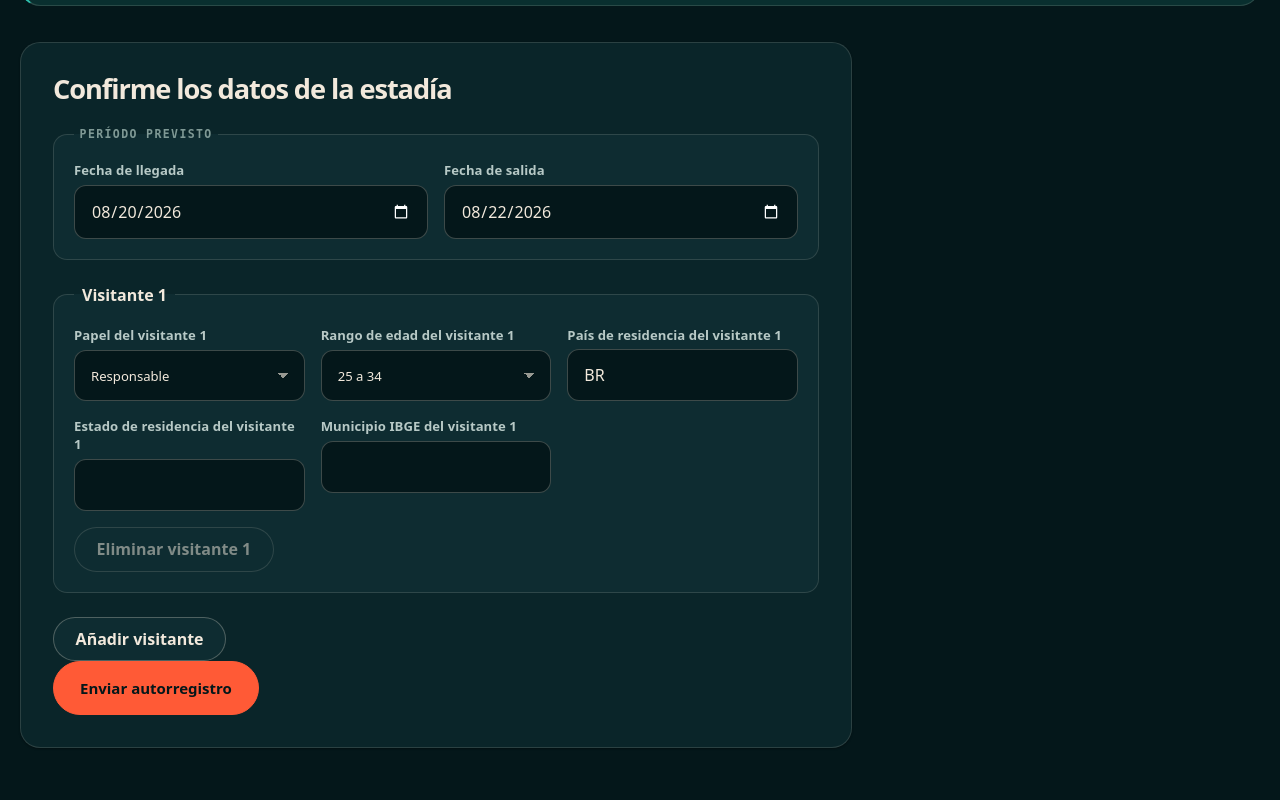
Test case: i18n do formulário aberto (es) › mostra a confirmação de envio no idioma selecionado
(page scrolled)
Type "BA" into the field labelled "Estado de residencia del visitante 1" at (189, 485), box [74,459,305,511]
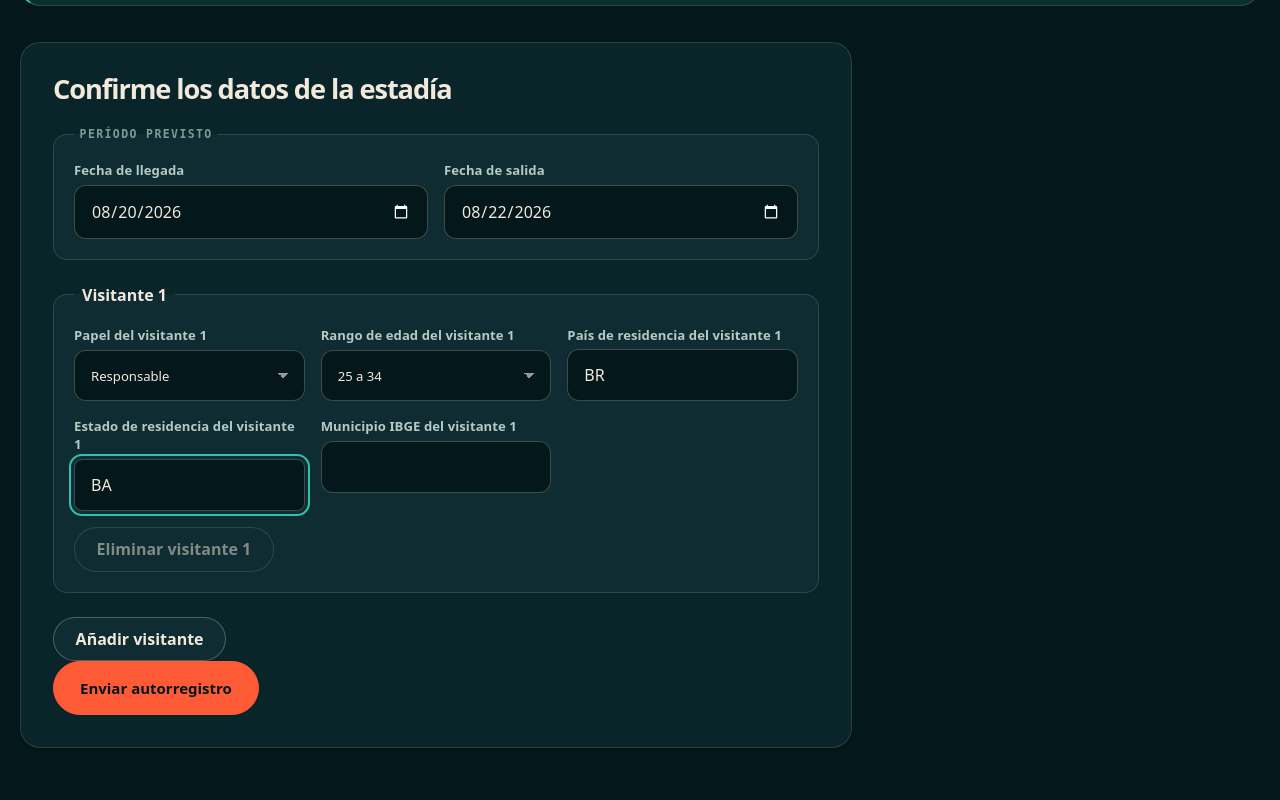
Type "2925509" into the field labelled "Municipio IBGE del visitante 1" at (436, 467), box [321,441,551,493]
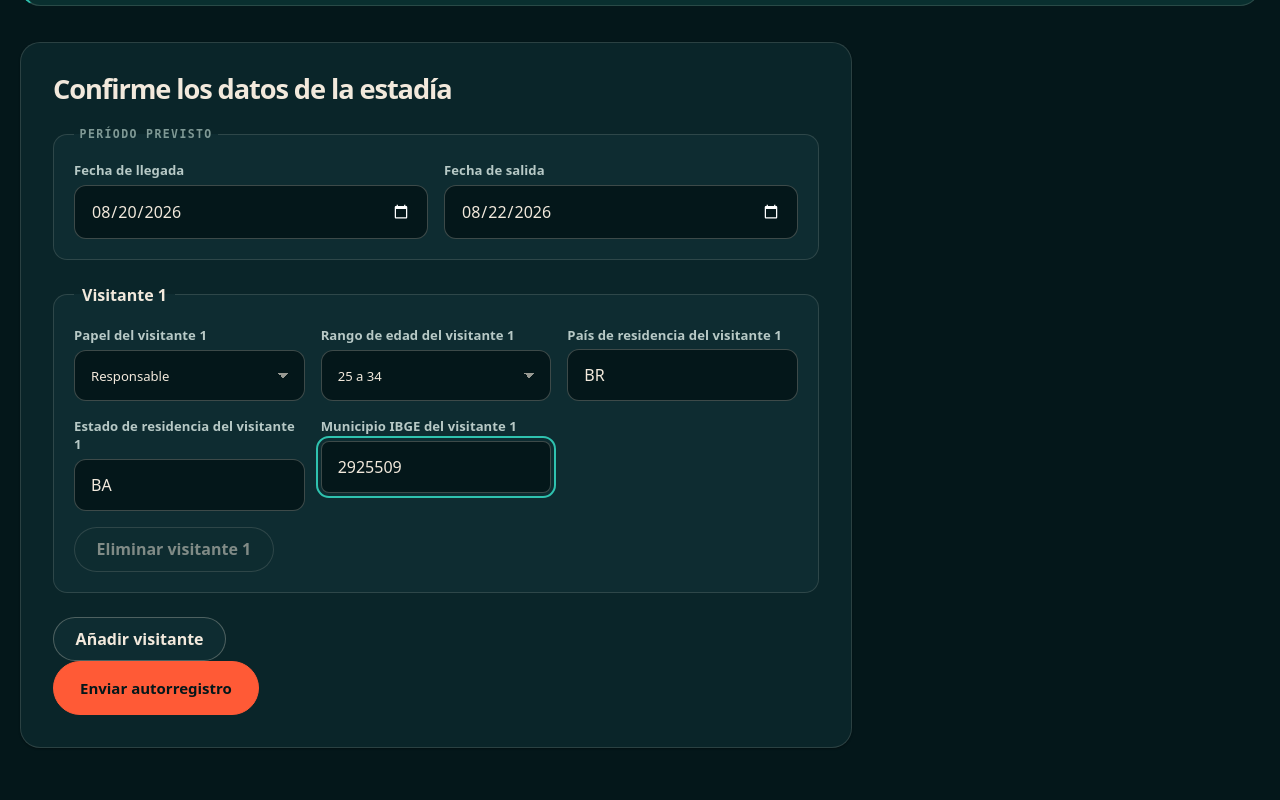
Click the button "Enviar autorregistro" at (156, 688), box [53,661,259,715]
(page scrolled)
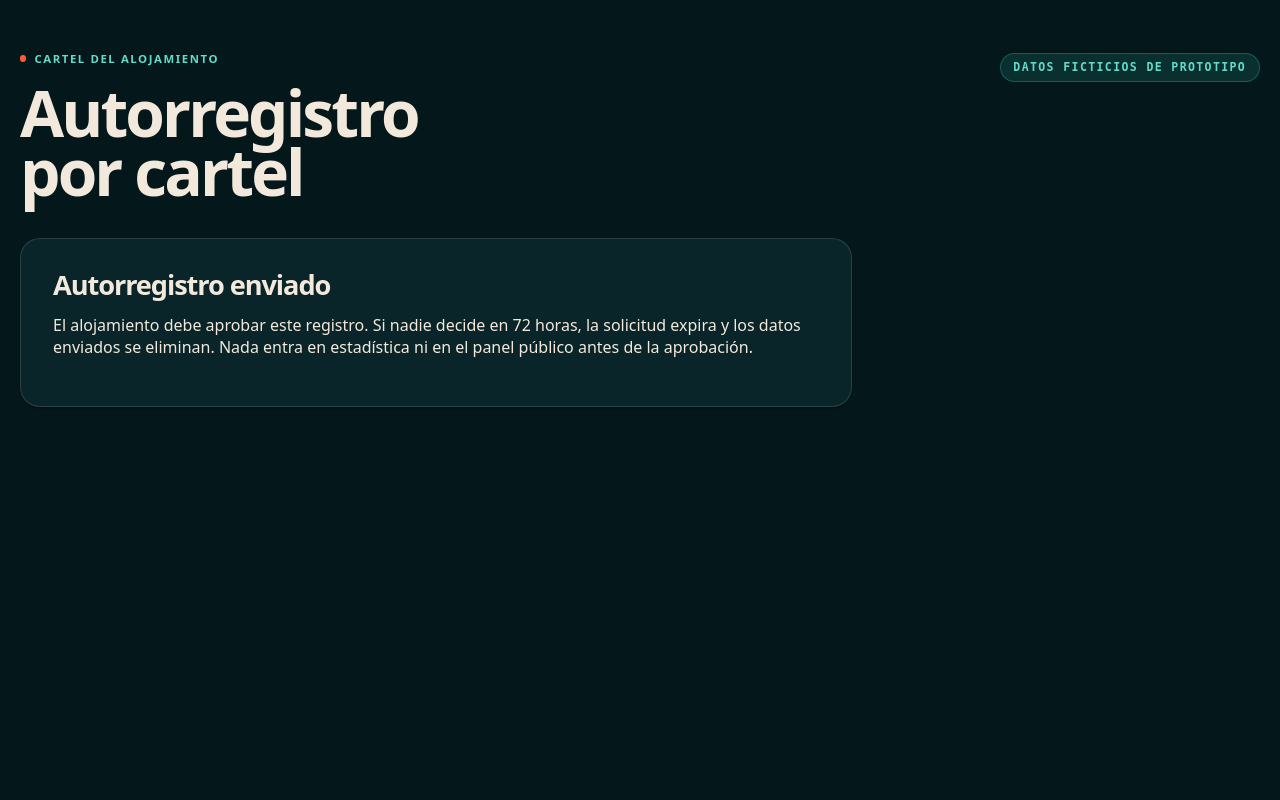
Check: the heading "Autorregistro enviado" is shown, box [53,266,330,302]
